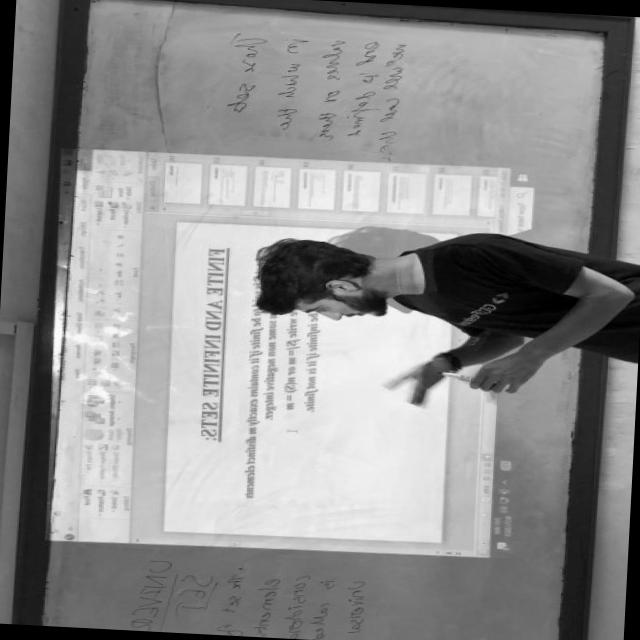Instructor: (230, 222, 632, 364)
Slide: (41, 147, 543, 558)
White-board: (19, 0, 615, 640)
